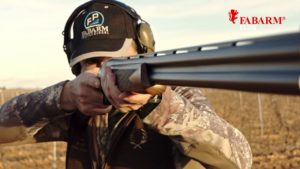weapon: (100, 31, 300, 95)
